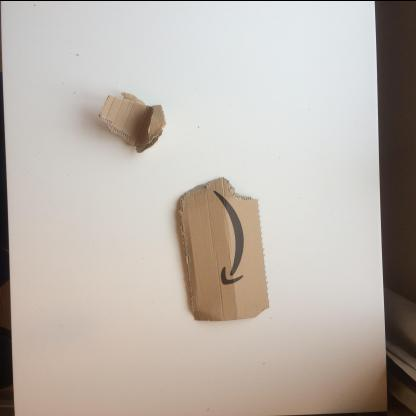karton: (172, 177, 270, 322), (96, 92, 168, 154)
